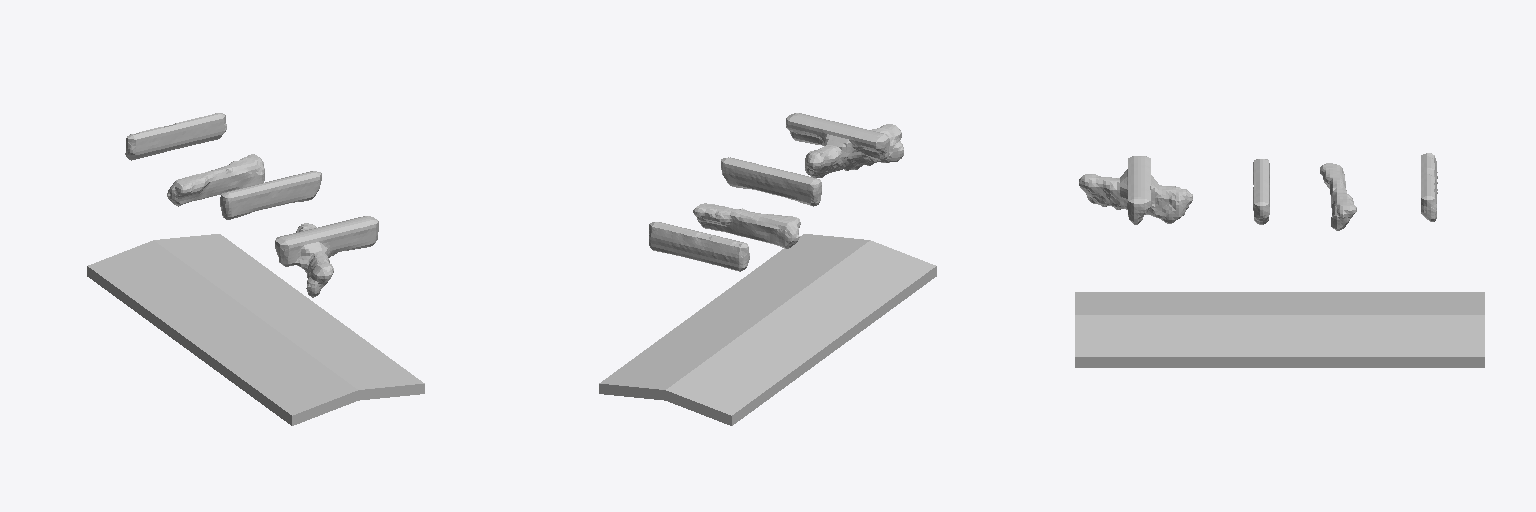
Rendered from Watersim_000007.obj.
3 renders of one model, left to right at view 1: azimuth 30°, elevation 25°; view 2: azimuth 150°, elevation 25°; view 3: azimuth 270°, elevation 25°, orthographic.
Parts seen in each view (by area): view 1: Straße_Cube.007, Domain_Cube.006; view 2: Straße_Cube.007, Domain_Cube.006; view 3: Straße_Cube.007, Domain_Cube.006.
Part boxes in pixels (left/top/right/bottom): Straße_Cube.007: left=87, top=234, right=424, bottom=425; Domain_Cube.006: left=125, top=113, right=378, bottom=297; Straße_Cube.007: left=599, top=234, right=936, bottom=425; Domain_Cube.006: left=649, top=113, right=903, bottom=271; Straße_Cube.007: left=1075, top=292, right=1484, bottom=367; Domain_Cube.006: left=1079, top=153, right=1437, bottom=230.
Size of the model in its own units: 2.26 by 2.59 by 6.06.